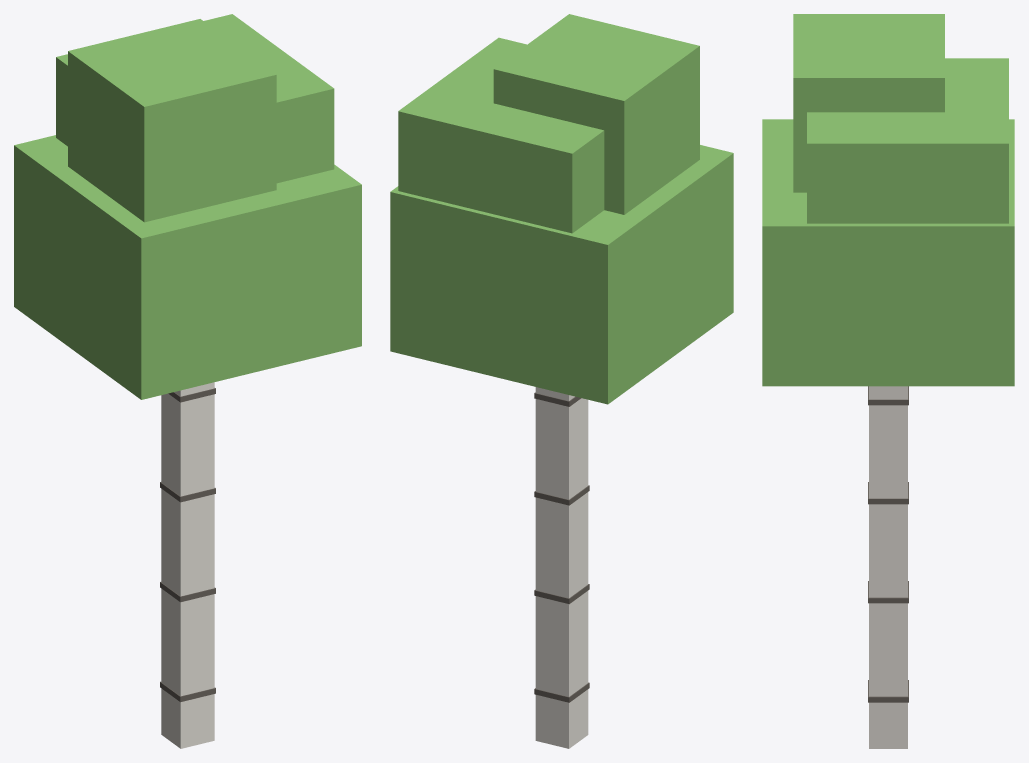
File: propvar_birch_m.glb
3 renders of one model, left to right at view 1: azimuth 30°, elevation 25°; view 2: azimuth 150°, elevation 25°; view 3: azimuth 270°, elevation 25°, orthographic.
Visible parts, largest first — view 1: PropVar_Birch_M; view 2: PropVar_Birch_M; view 3: PropVar_Birch_M.
Part boxes in pixels (box(x1,y1,x2,y2)): PropVar_Birch_M: box(14, 14, 361, 748); PropVar_Birch_M: box(390, 14, 733, 748); PropVar_Birch_M: box(762, 14, 1014, 748).
Bounding box in the file's own units: 2.6 × 7.75 × 2.6.
